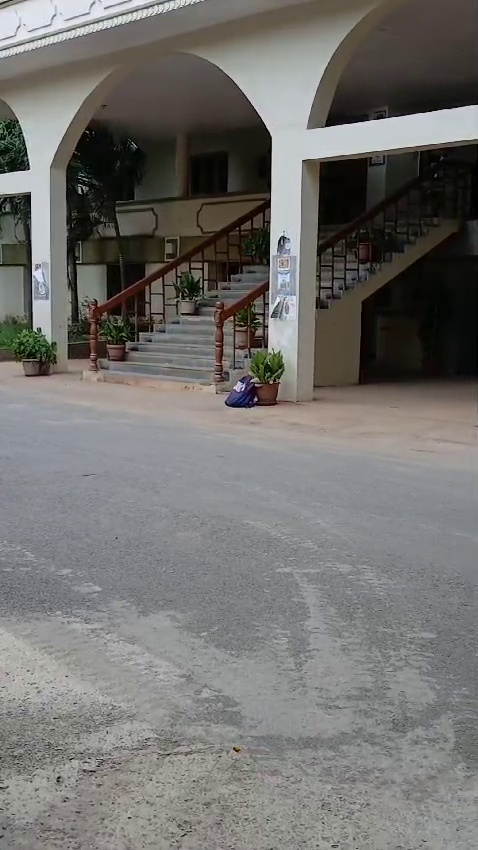bag: (223, 368, 254, 414)
